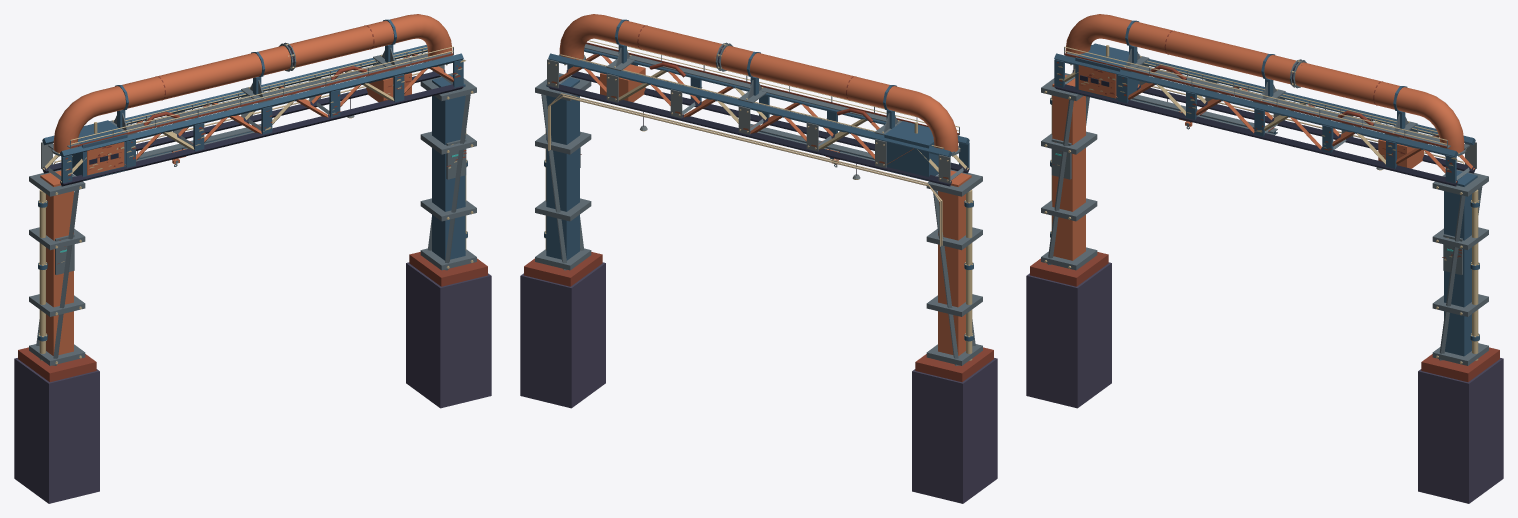
Rendered from foundry-service-gantry-v1.glb.
3 renders of one model, left to right at view 1: azimuth 30°, elevation 25°; view 2: azimuth 150°, elevation 25°; view 3: azimuth 330°, elevation 25°, orthographic.
Parts seen in each view (by area): view 1: foundry-service-gantry-v1; view 2: foundry-service-gantry-v1; view 3: foundry-service-gantry-v1.
Boxes of the visible parts, x1,y1,x2,y2 form: foundry-service-gantry-v1: [14, 14, 491, 503]; foundry-service-gantry-v1: [520, 14, 997, 503]; foundry-service-gantry-v1: [1026, 14, 1503, 503].
Size of the model in its own units: 104 by 86.45 by 14.
